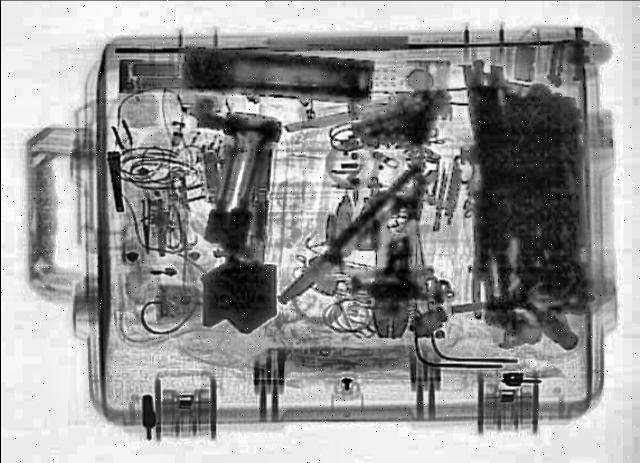Pliers: (273, 164, 442, 308), (372, 178, 414, 339)
